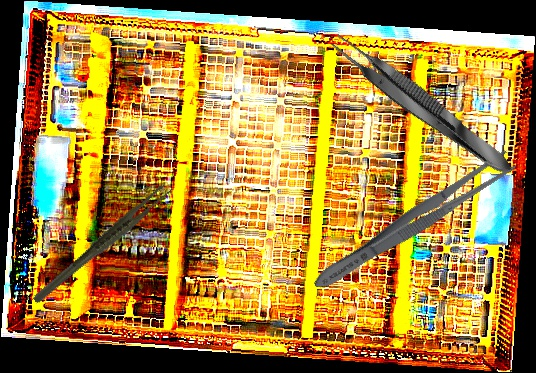Dressing Forceps: (306, 145, 521, 299)
Tissue Forceps: (323, 25, 521, 186), (15, 181, 188, 306)
